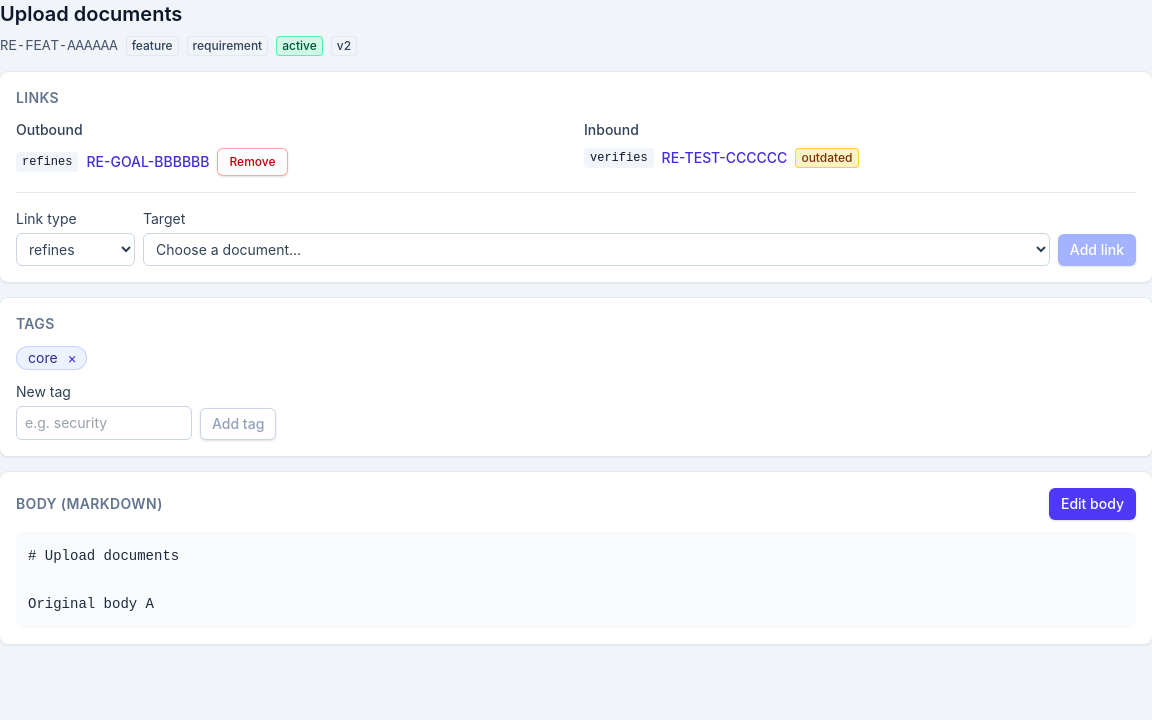
DocumentDetail body › shows other API failures without discarding the draft
Step 1. Click the button "Edit body" → [1092, 504], box [1049, 488, 1136, 520]
(page scrolled)
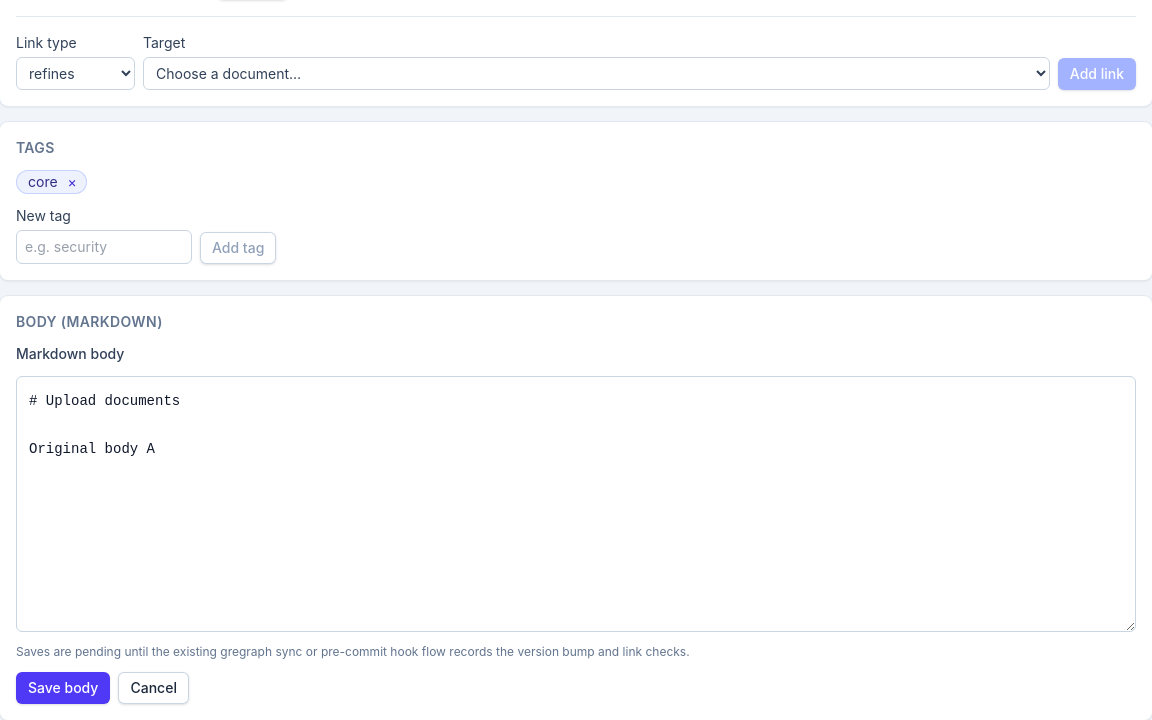
Step 2. Replace the text in the text box labelled "Markdown body" with "kept" → [576, 504], box [16, 376, 1136, 632]
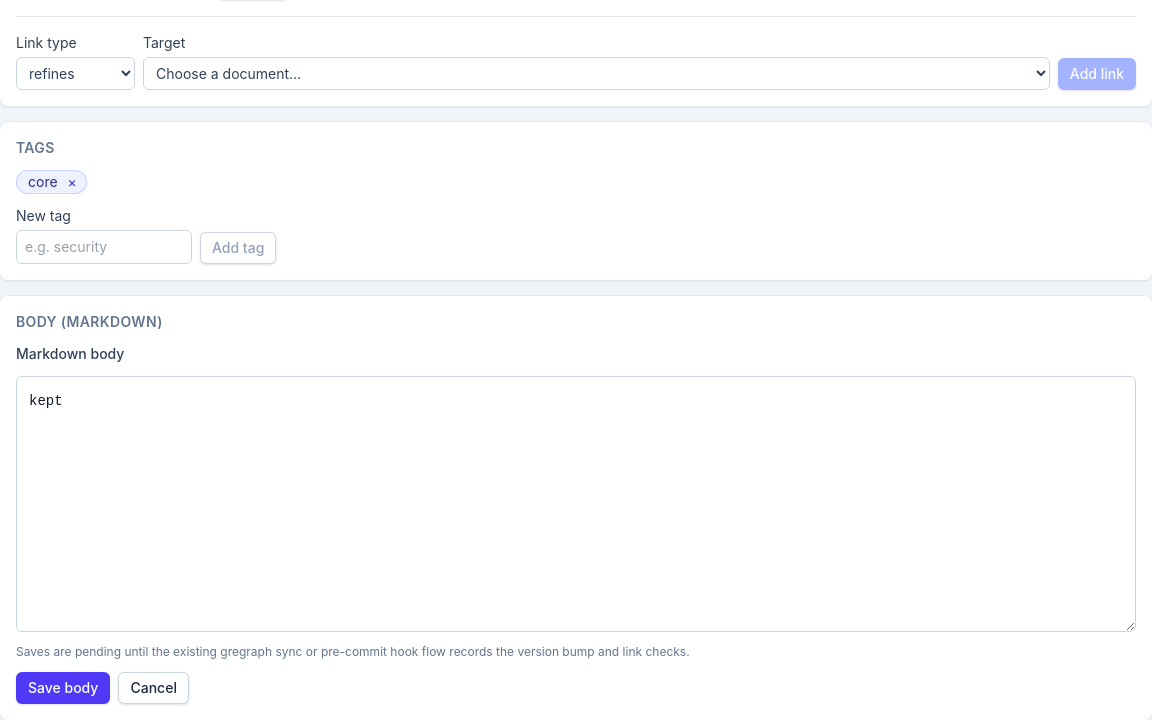
Step 3. Click the button "Save body" → [63, 688], box [16, 672, 110, 704]
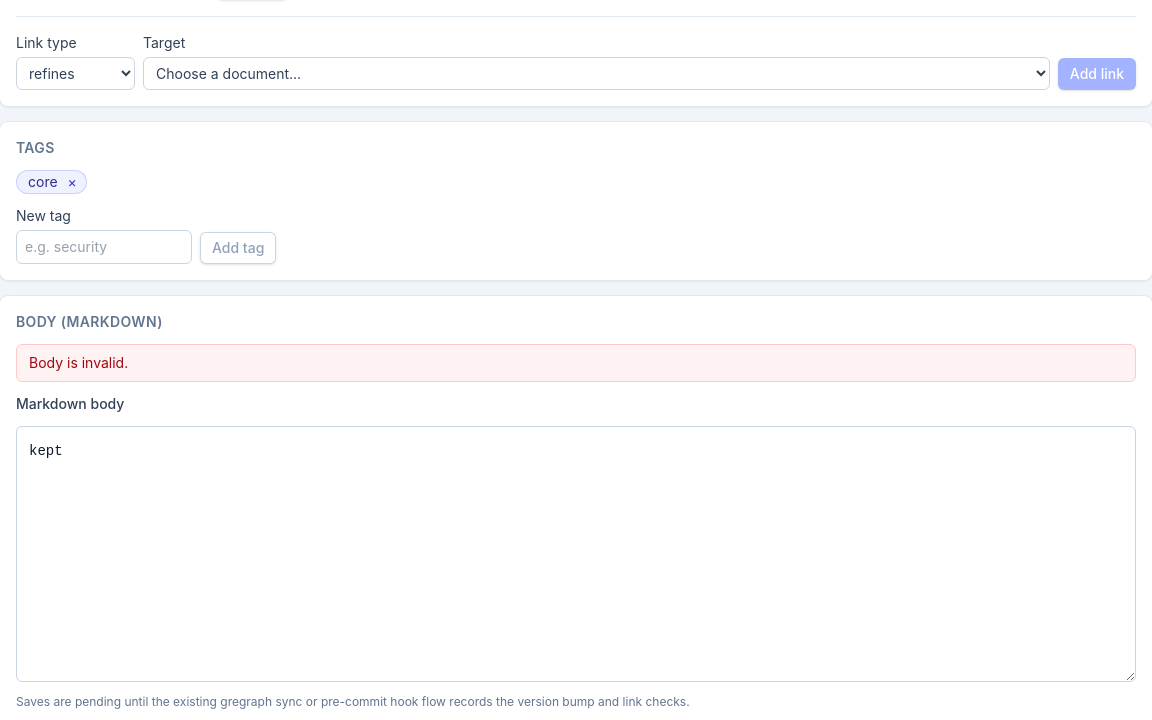
Check: the message reads "Body is invalid.", box [29, 354, 128, 371]
